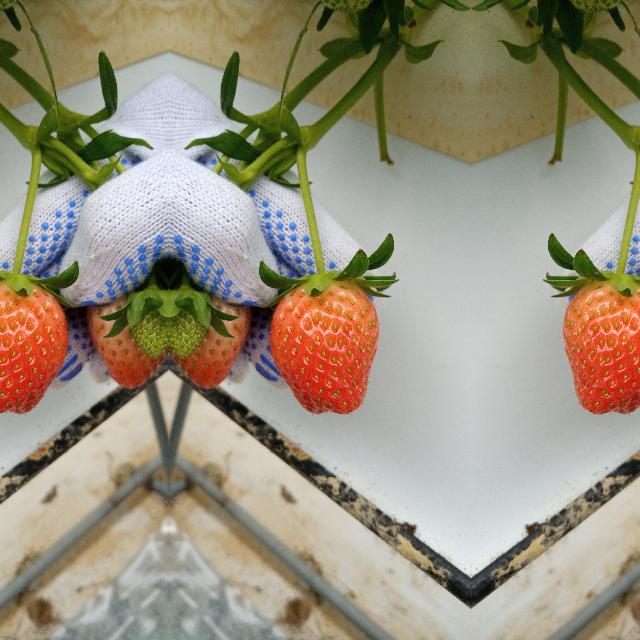Health_100: (267, 280, 379, 414), (562, 279, 640, 414), (170, 273, 248, 401), (88, 273, 166, 401), (0, 279, 69, 414)
